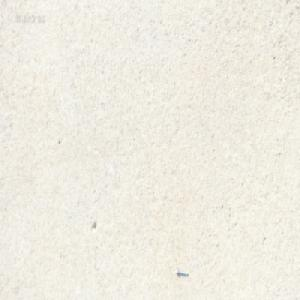Nail: (175, 268, 188, 276)
